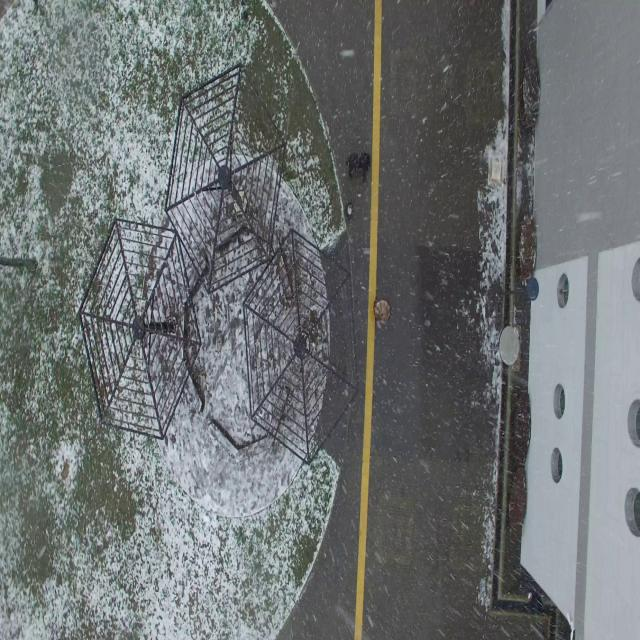p3rson: (358, 152, 371, 182), (347, 152, 358, 176)
